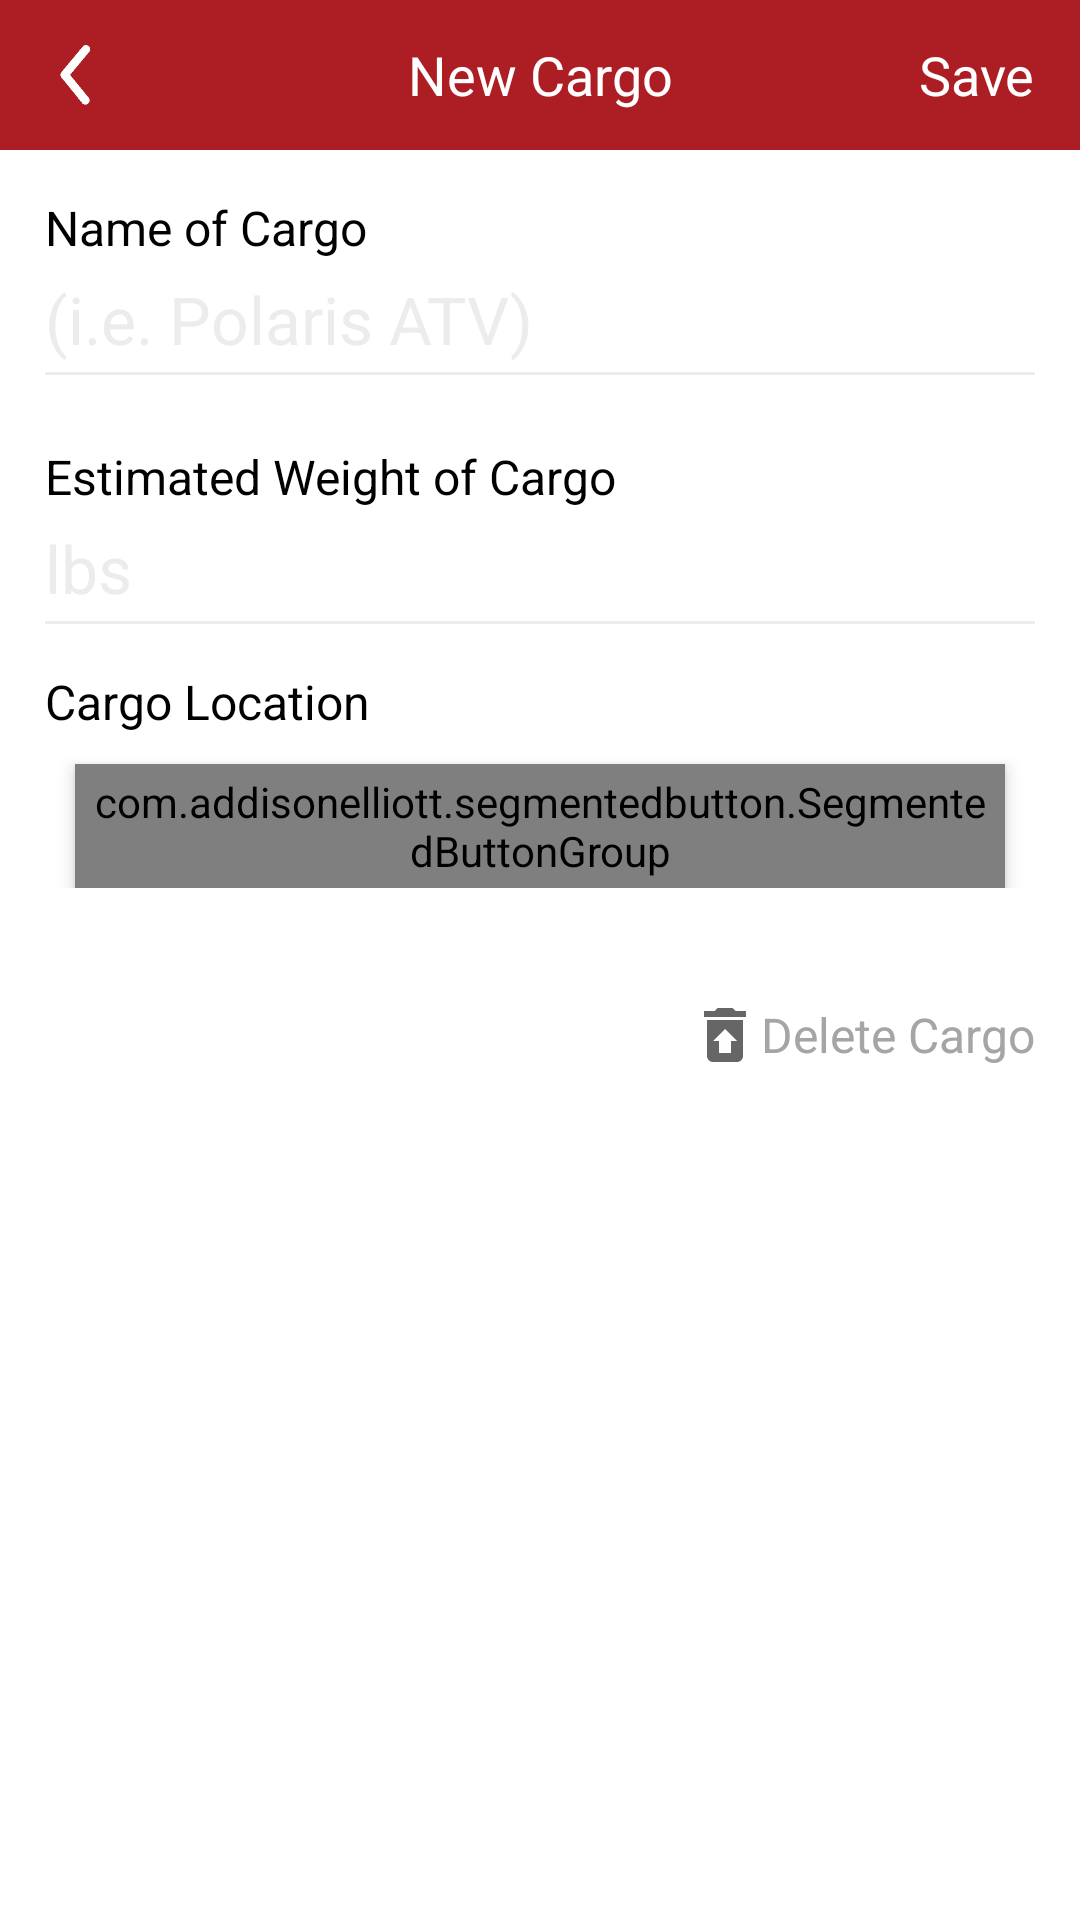

Where to tap for icons on this 1080w x 1920h app screen, as [x,y]:
back: [75,75]
trash: [725,1035]
